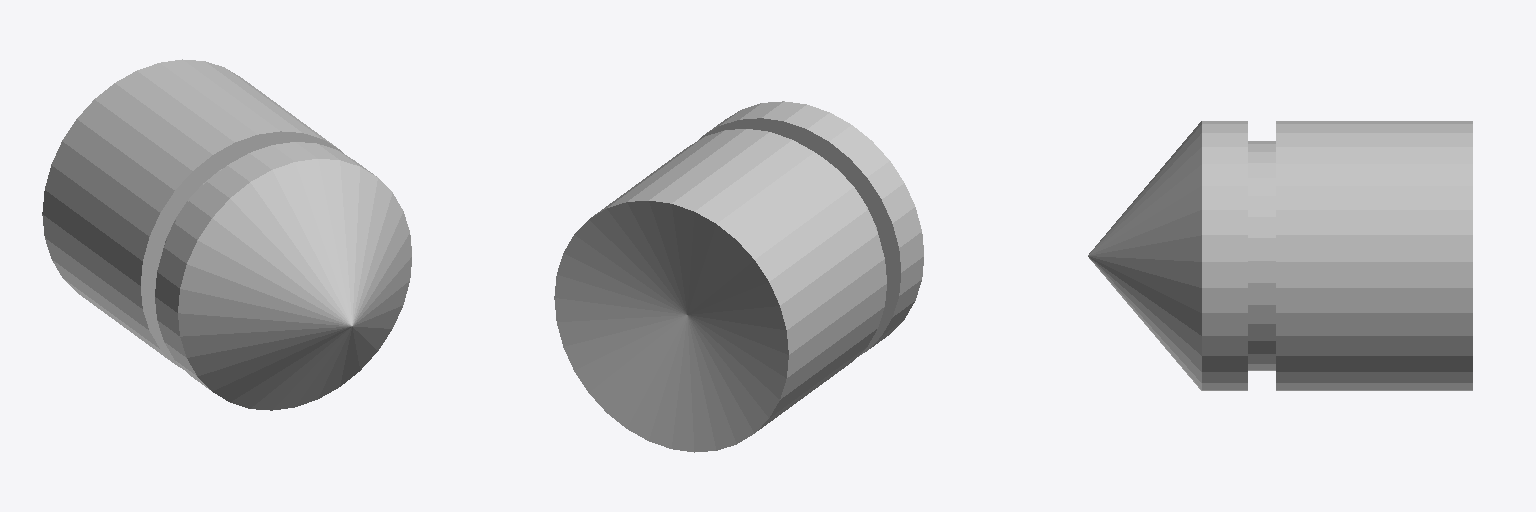
Rendered from bullet_1.obj.
3 views of the same model, side by side, from view 1: azimuth 30°, elevation 25°; view 2: azimuth 150°, elevation 25°; view 3: azimuth 270°, elevation 25° (orthographic).
Visible parts, largest first — view 1: Cylinder; view 2: Cylinder; view 3: Cylinder.
Boxes of the visible parts, x1,y1,x2,y2 form: Cylinder: [42, 59, 411, 410]; Cylinder: [554, 101, 923, 452]; Cylinder: [1088, 121, 1472, 390].
Bounding box in the file's own units: 2 × 2 × 2.84.